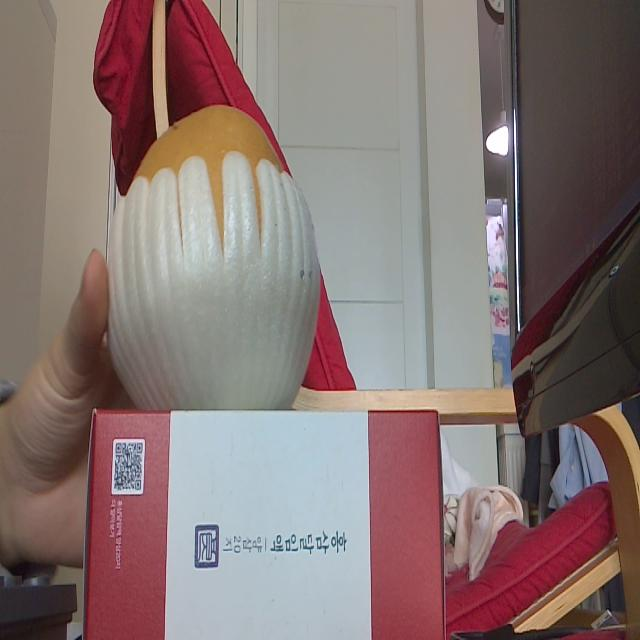pear: (122, 105, 306, 411)
